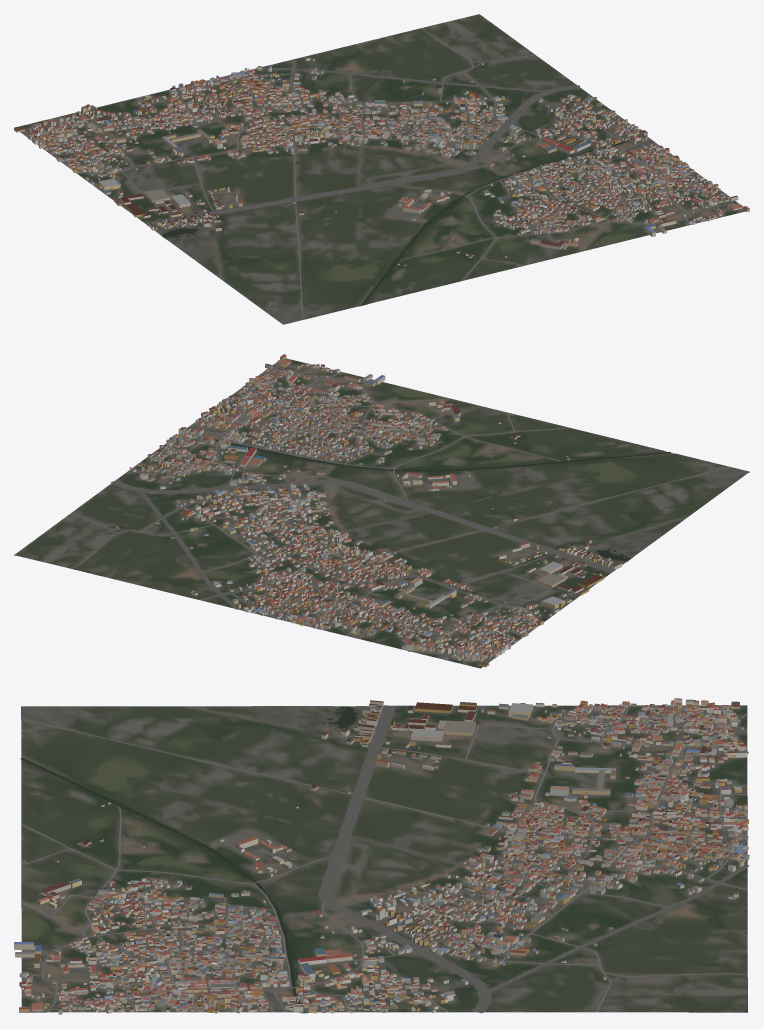
The picture shows the model from 3 angles, top to bottom: view 1: azimuth 30°, elevation 25°; view 2: azimuth 150°, elevation 25°; view 3: azimuth 270°, elevation 25°; orthographic projection. The views are drawn at different scales.
Visible parts, largest first — view 1: ground, buildings, roads, water; view 2: ground, buildings, roads, water; view 3: ground, buildings, roads, water.
Boxes of the visible parts, x1=… form: ground: x1=14, y1=14, x2=745, y2=324; buildings: x1=14, y1=57, x2=749, y2=265; roads: x1=24, y1=28, x2=738, y2=319; water: x1=162, y1=140, x2=629, y2=305; ground: x1=14, y1=358, x2=749, y2=668; buildings: x1=115, y1=354, x2=621, y2=667; roads: x1=70, y1=364, x2=729, y2=665; water: x1=196, y1=436, x2=670, y2=561; ground: x1=21, y1=705, x2=747, y2=1013; buildings: x1=14, y1=698, x2=749, y2=1014; roads: x1=21, y1=705, x2=749, y2=1013; water: x1=20, y1=706, x2=358, y2=1013.
Size of the model in its own units: 1420 by 23.94 by 1421.
